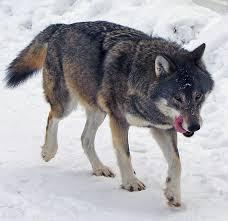Wolf: (3, 19, 217, 209)
